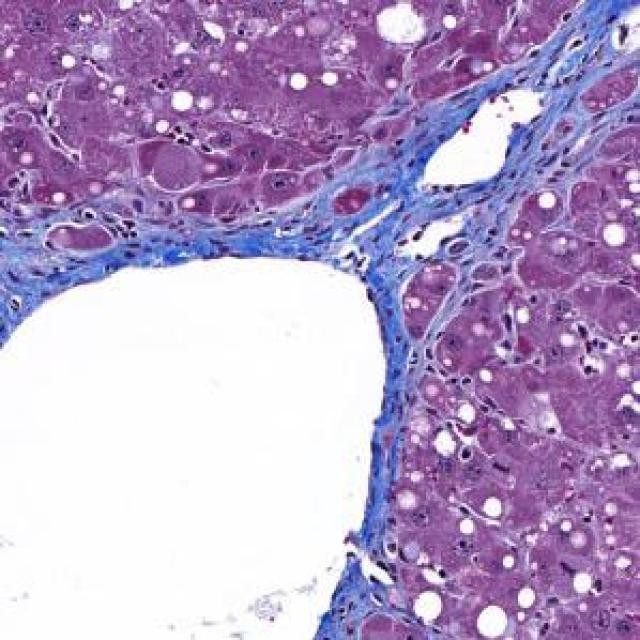fibrosis: (298, 158, 520, 289), (5, 193, 234, 274), (503, 43, 640, 156)
